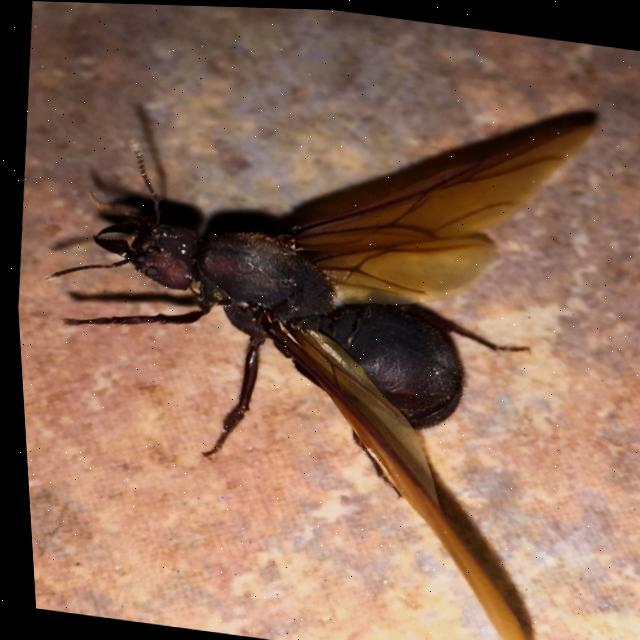Alive-Female-Alate: (2, 33, 626, 640)
